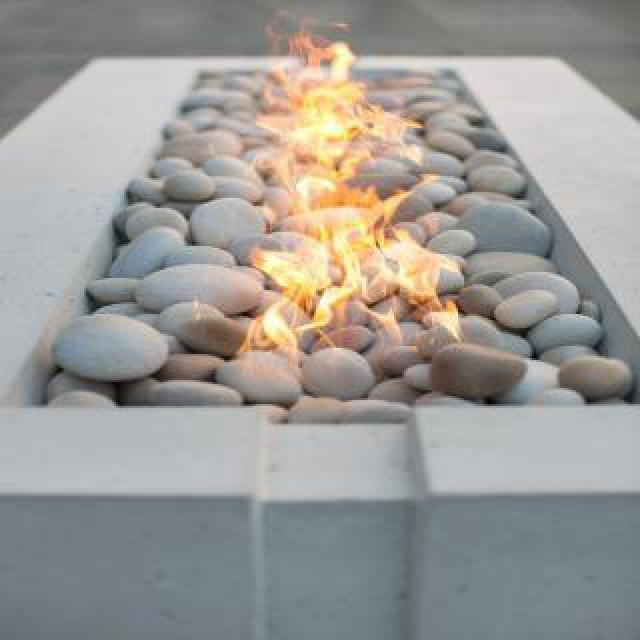fire: (265, 28, 456, 344)
